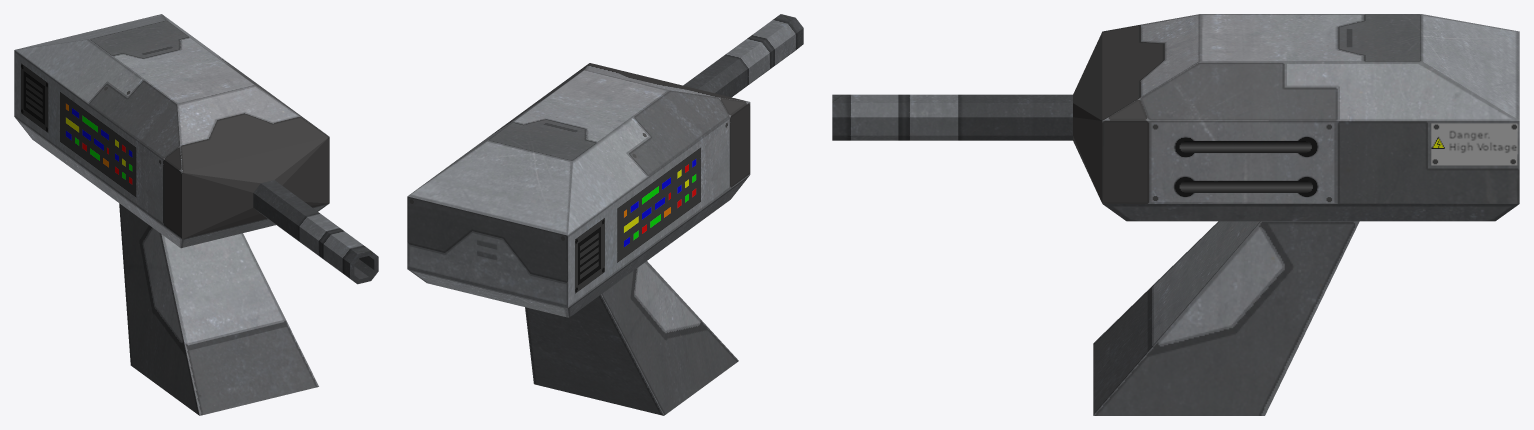
The model's file is Weapon1.fbx.
3 views of the same model, side by side, from view 1: azimuth 30°, elevation 25°; view 2: azimuth 150°, elevation 25°; view 3: azimuth 270°, elevation 25° (orthographic). The views are drawn at different scales.
Visible parts, largest first — view 1: Weapon1; view 2: Weapon1; view 3: Weapon1.
Boxes of the visible parts, x1,y1,x2,y2 form: Weapon1: [14, 14, 378, 415]; Weapon1: [407, 14, 803, 415]; Weapon1: [832, 14, 1519, 415].
Bounding box in the file's own units: 29.3 × 52.17 × 95.01.
